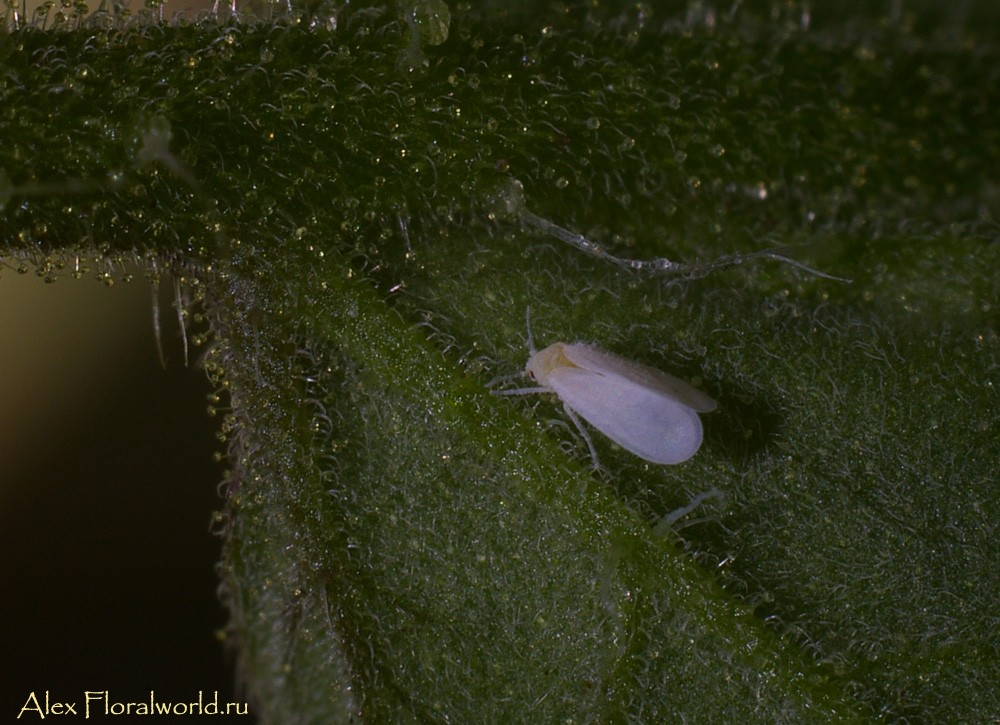Mosca Blanca: (450, 313, 745, 503)
